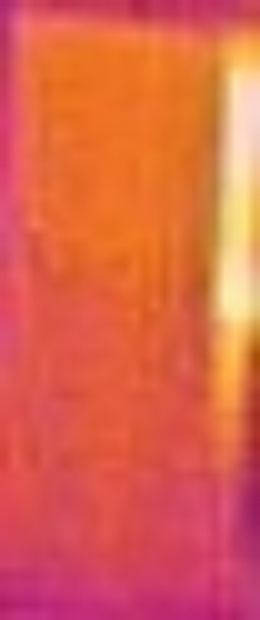Diode: (213, 23, 260, 446)
